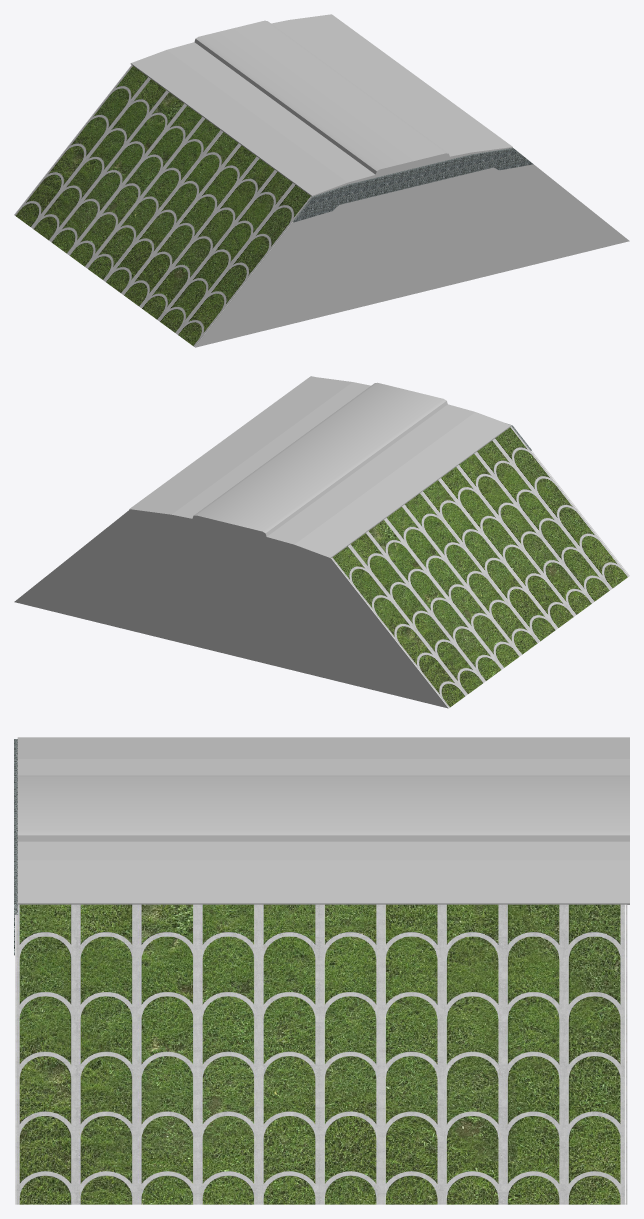
Rendered from 无砟轨道单线路基.fbx.
3 renders of one model, top to bottom at view 1: azimuth 30°, elevation 25°; view 2: azimuth 150°, elevation 25°; view 3: azimuth 270°, elevation 25°, orthographic. The views are drawn at different scales.
Parts seen in each view (by area): view 1: 基床001, 表层, 岩层001; view 2: 基床001, 表层; view 3: 基床001, 表层, 岩层001.
Boxes of the visible parts, bbox=[...] form: 基床001: bbox=[14, 65, 629, 347]; 表层: bbox=[130, 14, 512, 196]; 岩层001: bbox=[292, 148, 533, 222]; 基床001: bbox=[14, 426, 629, 708]; 表层: bbox=[129, 376, 511, 558]; 基床001: bbox=[15, 904, 627, 1204]; 表层: bbox=[17, 737, 629, 904]; 岩层001: bbox=[14, 739, 17, 955].
Size of the model in its own units: 1090 by 317 by 792.
